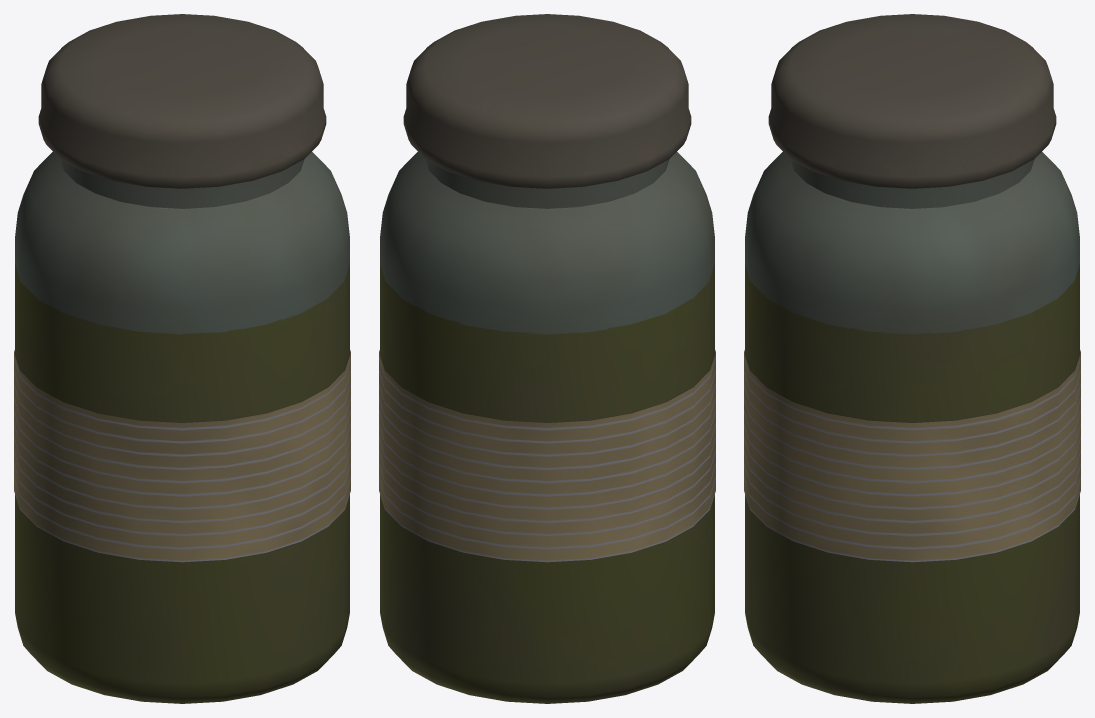
Rendered from SM_SpecimenJar.fbx.
The picture shows the model from 3 angles, left to right: view 1: azimuth 30°, elevation 25°; view 2: azimuth 150°, elevation 25°; view 3: azimuth 270°, elevation 25°; orthographic projection.
Parts seen in each view (by area): view 1: SpecimenJar; view 2: SpecimenJar; view 3: SpecimenJar.
Boxes of the visible parts, x1=… form: SpecimenJar: x1=14, y1=14, x2=350, y2=703; SpecimenJar: x1=379, y1=14, x2=715, y2=703; SpecimenJar: x1=744, y1=14, x2=1080, y2=703.
Bounding box in the file's own units: 0.1206 × 0.23 × 0.1206.
